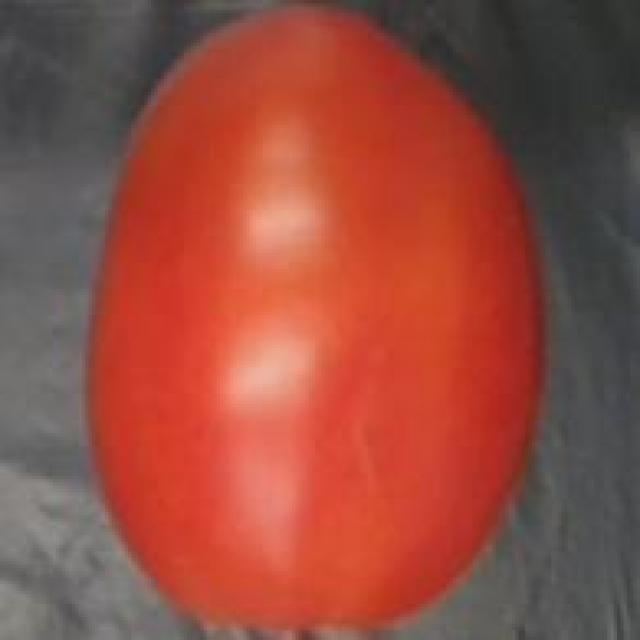ripe tomato: (72, 3, 558, 640)
